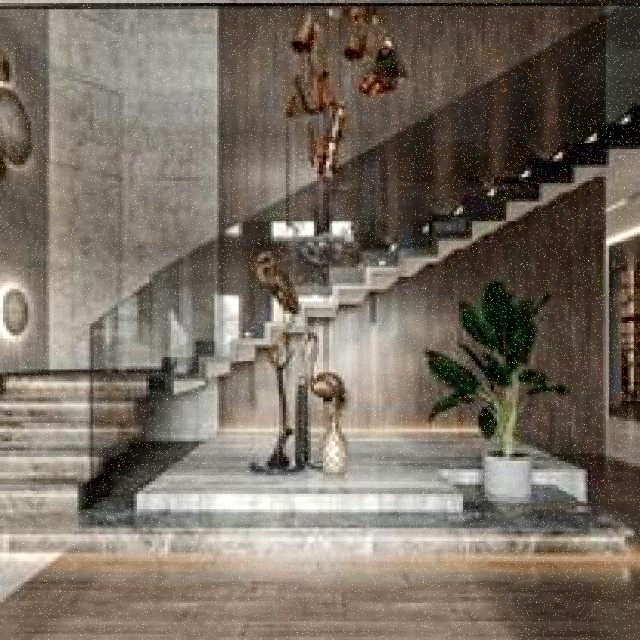stair: (1, 300, 155, 554)
